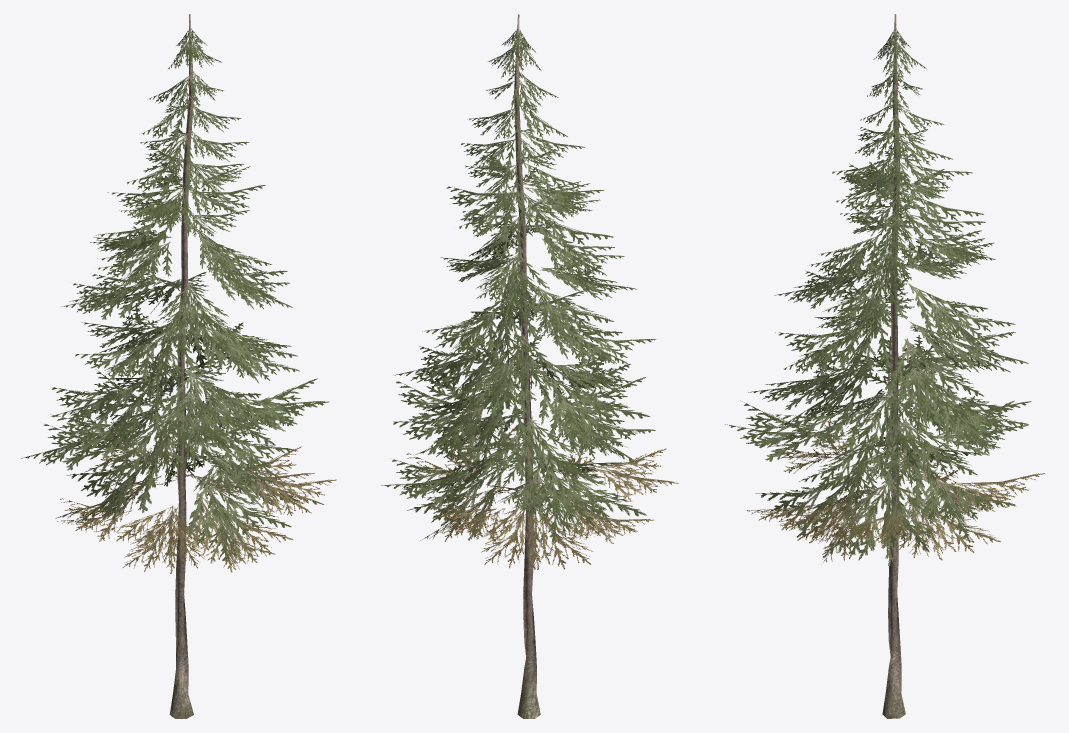
Rendered from spruce1_LOD3.fbx.
The picture shows the model from 3 angles, left to right: view 1: azimuth 30°, elevation 25°; view 2: azimuth 150°, elevation 25°; view 3: azimuth 270°, elevation 25°; orthographic projection.
Parts seen in each view (by area): view 1: spruce 2_1, spruce 1_0; view 2: spruce 2_1, spruce 1_0; view 3: spruce 2_1, spruce 1_0.
Part boxes in pixels (x1,y1,x2,y2): spruce 2_1: (21,29,336,573); spruce 1_0: (169,14,193,718); spruce 2_1: (381,29,678,569); spruce 1_0: (514,14,540,718); spruce 2_1: (725,29,1045,565); spruce 1_0: (882,14,905,718).
Bounding box in the file's own units: 837 × 2028 × 883.
2 materials, 2 textured.
